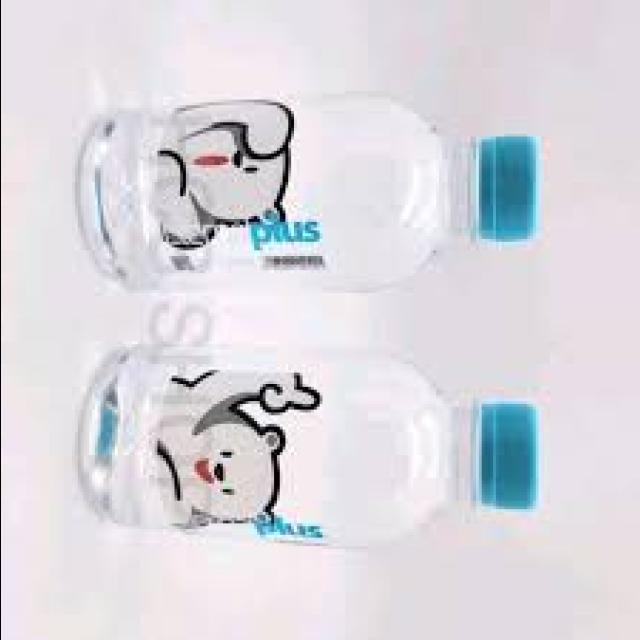寶特瓶: (58, 72, 533, 323), (46, 333, 520, 552)
